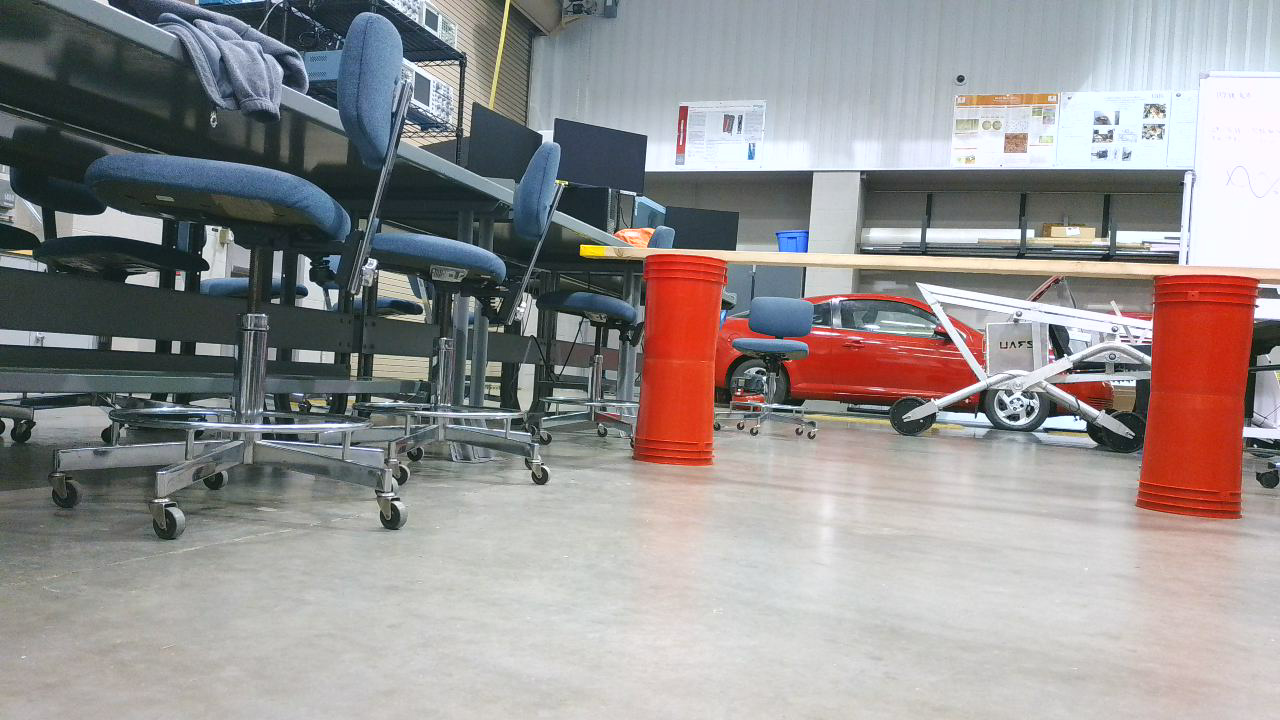red_bucket_arch: (627, 245, 1277, 528)
